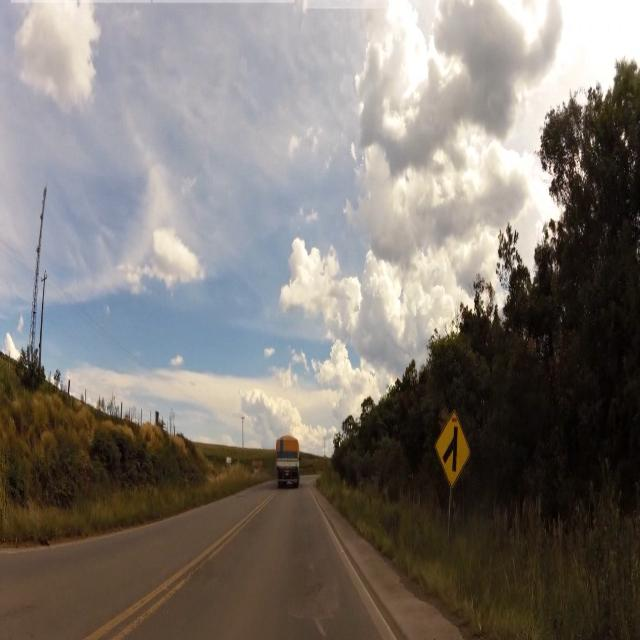A-13a: (435, 410, 471, 488)
